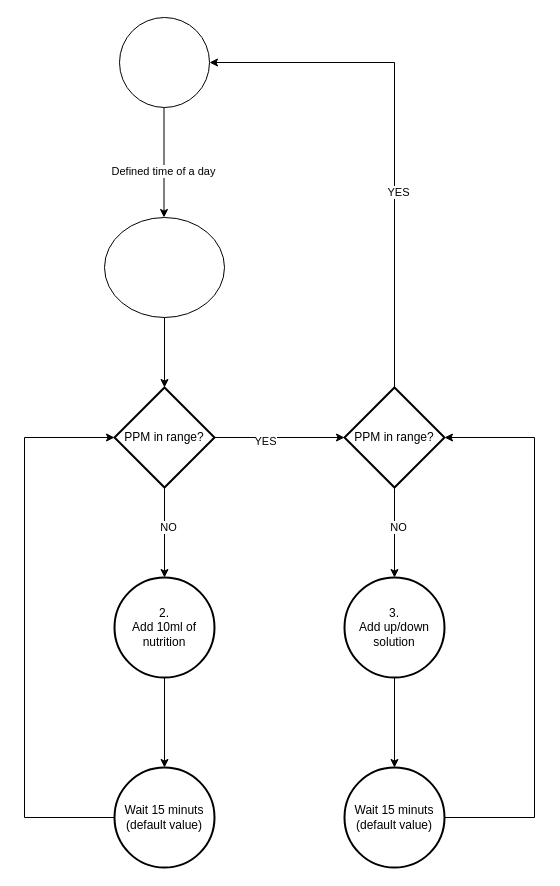
This 560x886 diagram has some shape labels left out. Here are the shapes that lost their labels. From the top down, the centre of each, then its label:
(x=164, y=62): Stand by
(x=164, y=267): 1. Add Water (automatic, user defined amount)
